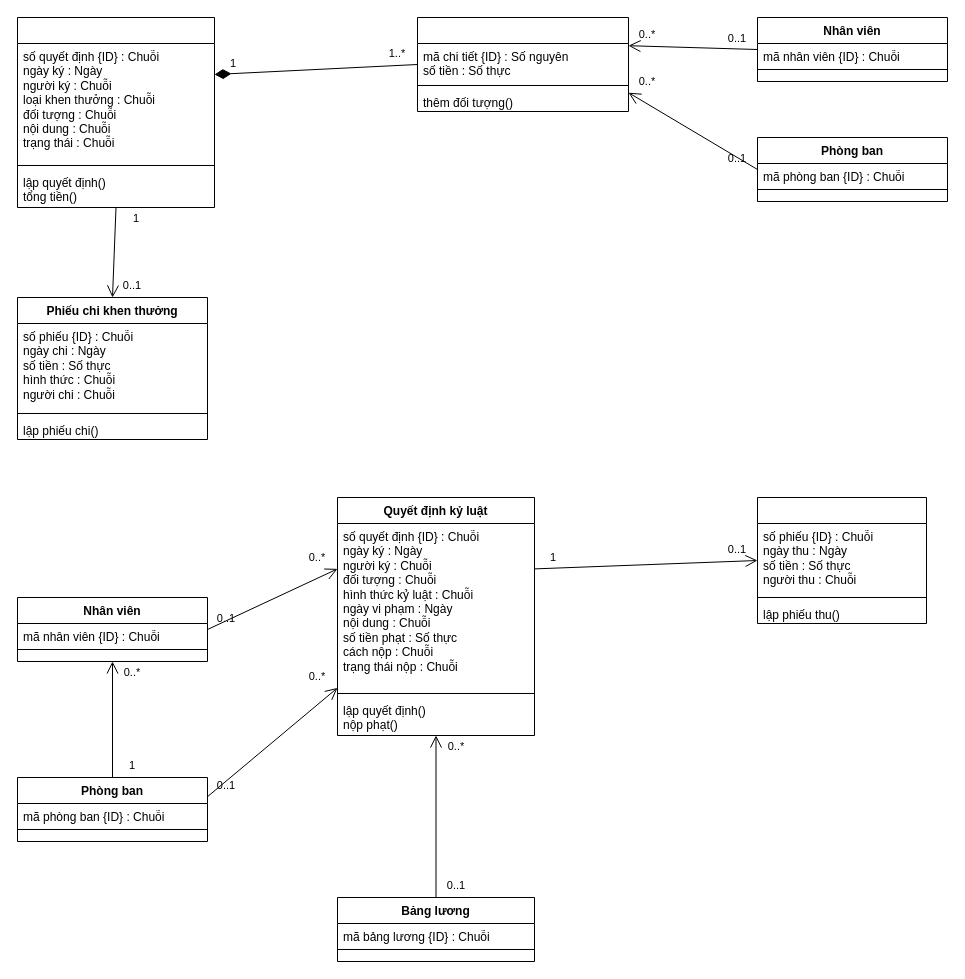
The diagram is 965 pixels wide and 979 high, and some of its shapes have lost their labels. Here are the shapes that lost their labels. From the top down, the box of each, then its label:
(416, 16, 628, 112): Chi tiết khen thưởng
(16, 16, 214, 208): Quyết định khen thưởng
(756, 496, 926, 624): Phiếu thu nộp phạt
